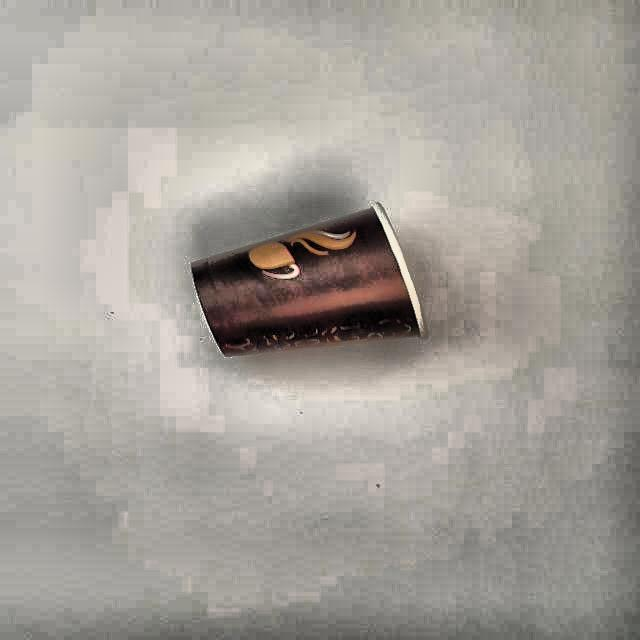cardboard: (189, 206, 427, 359)
